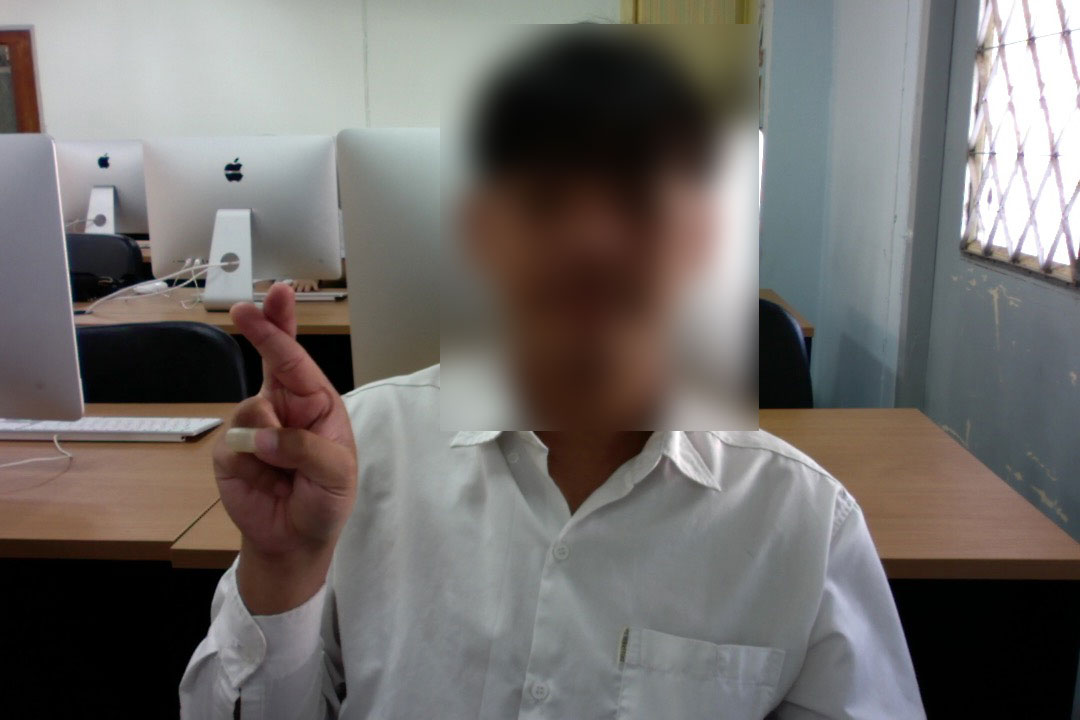rao: (191, 289, 374, 557)
